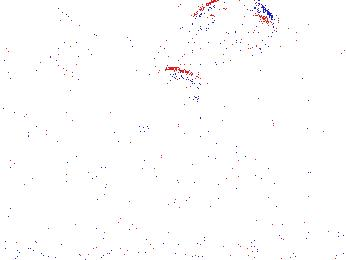moon jellyfish: (115, 67, 222, 127), (177, 1, 276, 65), (228, 85, 276, 162), (31, 32, 97, 82), (1, 3, 64, 50)
